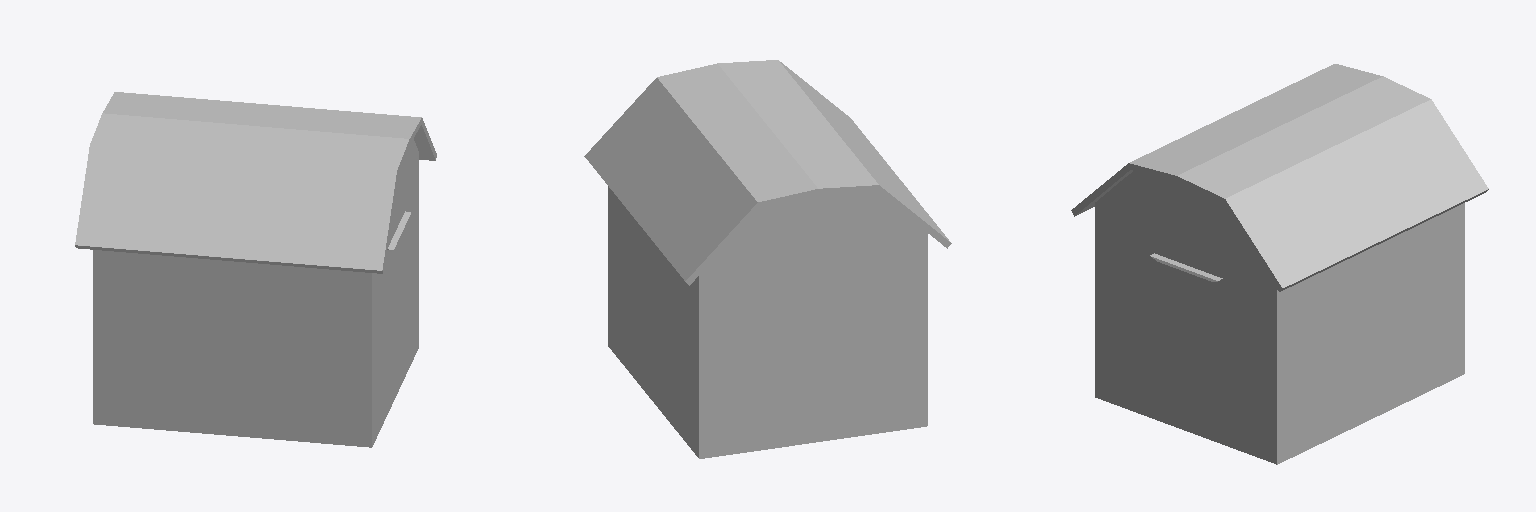
File: casa.obj
3 renders of one model, left to right at view 1: azimuth 30°, elevation 25°; view 2: azimuth 150°, elevation 25°; view 3: azimuth 270°, elevation 25°, orthographic.
Bounding box in the file's own units: 1.47 × 1 × 1.46.